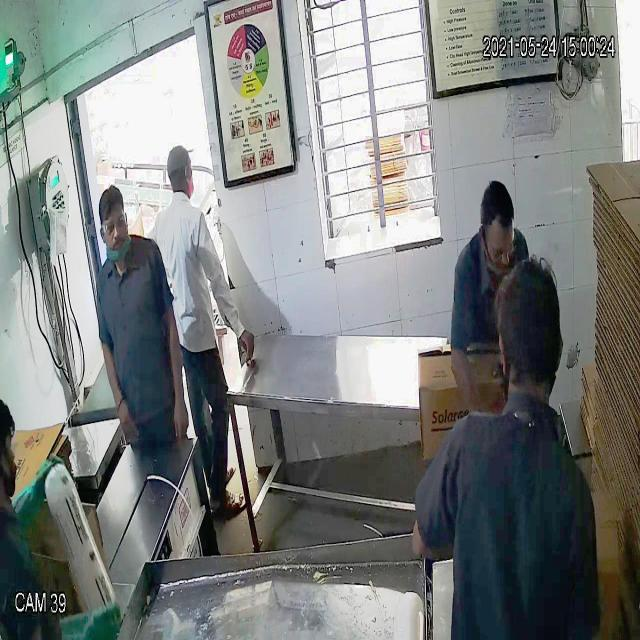glasses: (94, 215, 132, 243)
